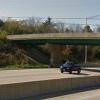Bridge: (6, 22, 95, 53)
